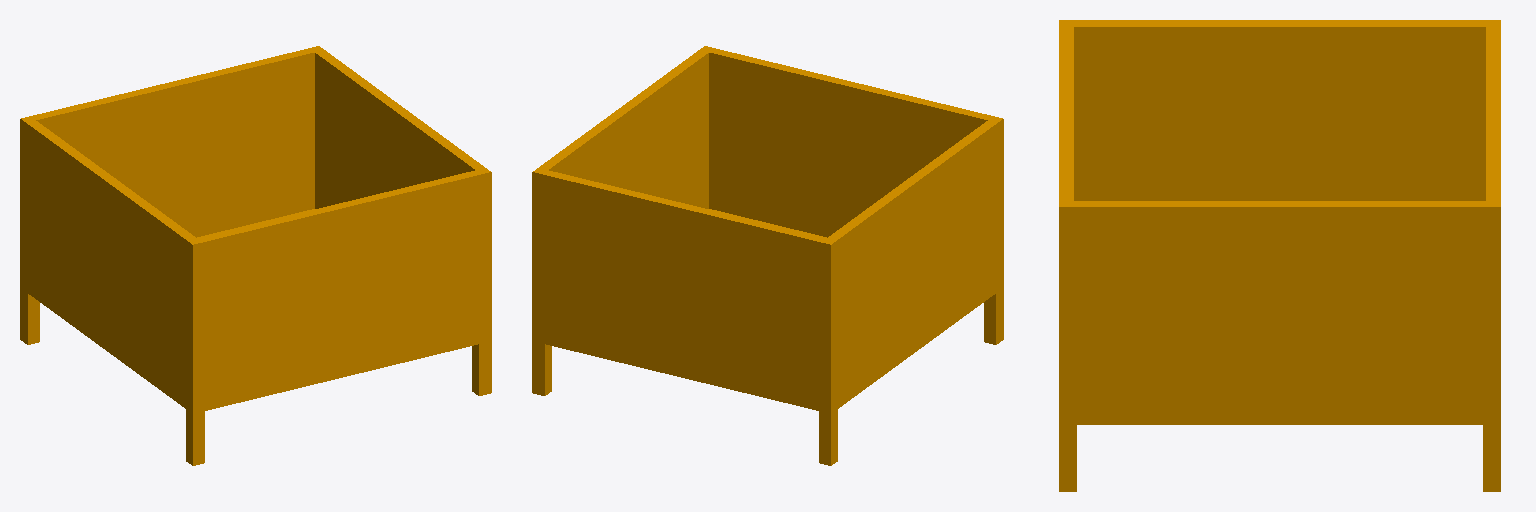
URDF robot description (ar_box):
<robot name="ar_box">

    <link name="simple_box_base_link">
 	    <inertial>
            <origin xyz="0 0 0.64" rpy="0 0 0"/>
            <mass value="5.0" />
            <inertia
                ixx="0.1"
                ixy="0"
                ixz="0"
                iyy="0.1"
                iyz="0"
                izz="0.1" />
        </inertial>
        <collision>
            <origin xyz="0 0 0" rpy="0 0 0"/>
            <geometry>
                <!--<box size="0.8 0.8 0.2"/>-->
                <mesh filename="package://arabv_sim/includes/load_withTag.dae"/>
            </geometry>
        </collision>
        <visual>
            <origin rpy="0.0 0 0" xyz="0 0 0"/>
            <geometry>
                <!--<box size="0.8 0.8 0.2"/>-->
                <mesh filename="package://arabv_sim/includes/load_withTag.dae"/>
            </geometry>
        </visual>
    </link>
    
    <gazebo reference="simple_box_base_link">
        <kp>100000.0</kp>
        <kd>100000.0</kd>
        <mu1>0.1</mu1>
        <mu2>0.1</mu2>
        <fdir1>1 0 0</fdir1>
    </gazebo>

</robot>

--- Facts derived from the render (not from the file) ---
Views: 3 orthographic renders of the robot side by side, from view 1: azimuth 30°, elevation 25°; view 2: azimuth 150°, elevation 25°; view 3: azimuth 270°, elevation 25°.
Robot: ar_box — 1 links, 0 joints (none); root link simple_box_base_link; default pose: all joints at 0.
Links seen in each view (by area): view 1: simple_box_base_link; view 2: simple_box_base_link; view 3: simple_box_base_link.
Link boxes in pixels (<box>): simple_box_base_link: <box>20,46,491,465</box>; simple_box_base_link: <box>532,46,1003,465</box>; simple_box_base_link: <box>1059,20,1500,491</box>.
Size in the robot's own frame: 1.2 by 1.2 by 0.85 metres.
Meshes: 1 distinct files referenced, 1 mesh visuals loaded (1 Collada DAE).